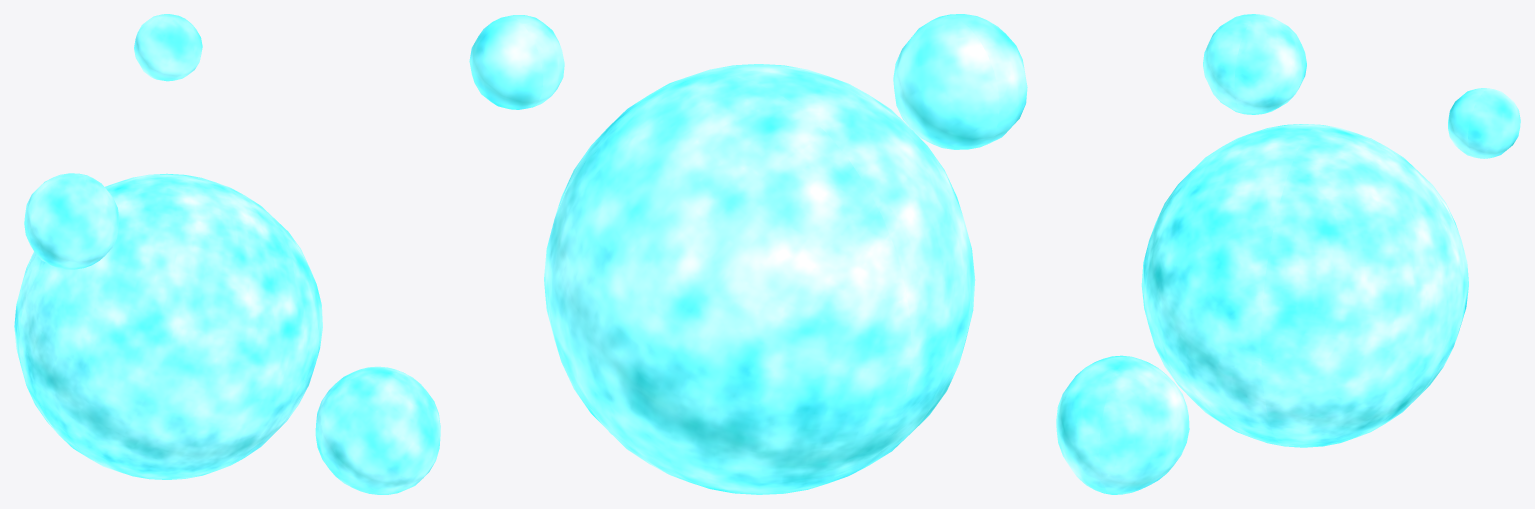
The model's file is caos_drs_somaenergy_01b_soma_v36.glb.
3 views of the same model, side by side, from view 1: azimuth 30°, elevation 25°; view 2: azimuth 150°, elevation 25°; view 3: azimuth 270°, elevation 25° (orthographic). The views are drawn at different scales.
Visible parts, largest first — view 1: caos_drs_somaenergy_01b; view 2: caos_drs_somaenergy_01b; view 3: caos_drs_somaenergy_01b.
Boxes of the visible parts, x1=… form: caos_drs_somaenergy_01b: x1=14, y1=14, x2=440, y2=494; caos_drs_somaenergy_01b: x1=469, y1=14, x2=1027, y2=494; caos_drs_somaenergy_01b: x1=1056, y1=14, x2=1520, y2=494.
Bounding box in the file's own units: 3.01 × 3.09 × 3.37.
Materials: 1 (1 with a texture image).
